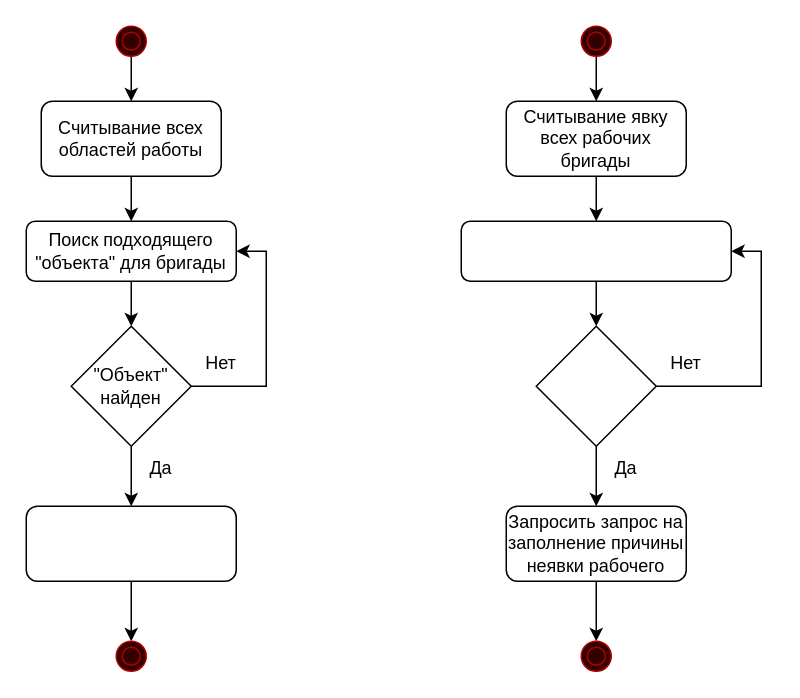
This 800x698 diagram has some shape labels left out. The centre of each missing label's shape, as x and y in pixels:
Добавление в список выбора "объекта" для бригадира: pixel 130 543
Поиск рабочего, отсутствующего на работе: pixel 595 250
Рабочий найден: pixel 595 385
